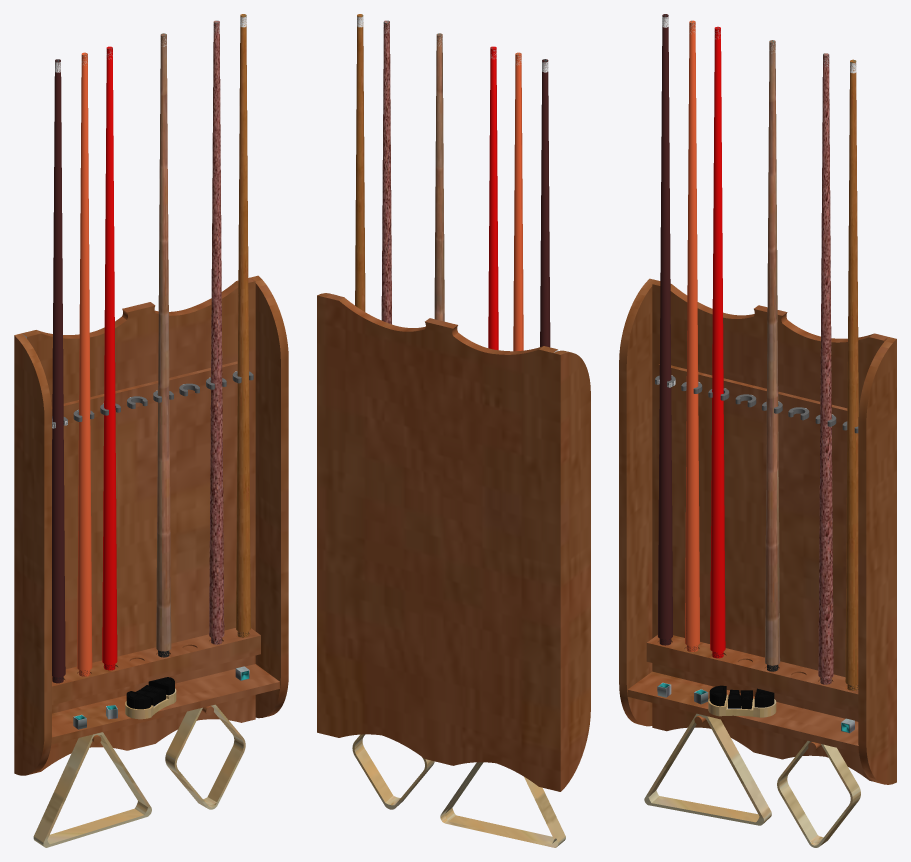
File: cue rack.dae
3 views of the same model, side by side, from view 1: azimuth 30°, elevation 25°; view 2: azimuth 150°, elevation 25°; view 3: azimuth 330°, elevation 25° (orthographic).
Parts seen in each view (by area): view 1: Model, Felt_Brush; view 2: Model; view 3: Model, Felt_Brush.
Part boxes in pixels (x1,y1,x2,y2): Model: (14, 14, 288, 847); Felt_Brush: (125, 677, 176, 719); Model: (317, 14, 590, 847); Model: (619, 14, 896, 847); Felt_Brush: (708, 685, 776, 717).
Bounding box in the file's own units: 28 × 6.8 × 85.84.
Materials: 41 (31 with a texture image).
